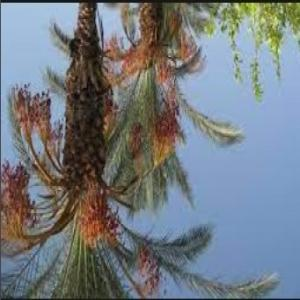palm tree: (0, 2, 296, 298)
